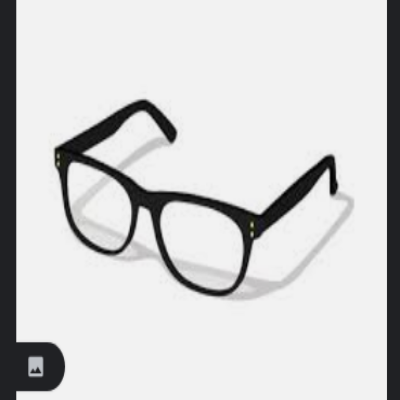glasses: (54, 97, 341, 298)
